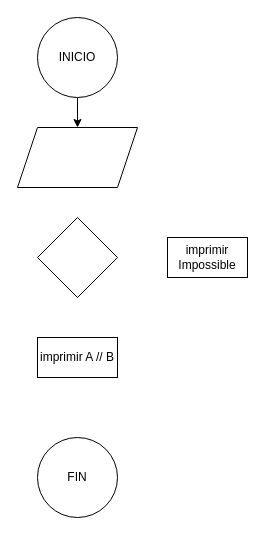
Some shapes in this 265 by 535 pixel diagram are drawn without their labels. Here are the shapes that lost their labels. From the top down, the centre of each, then its label:
At (77,157): "INPUT A, B".
At (77,257): "B == 0".
